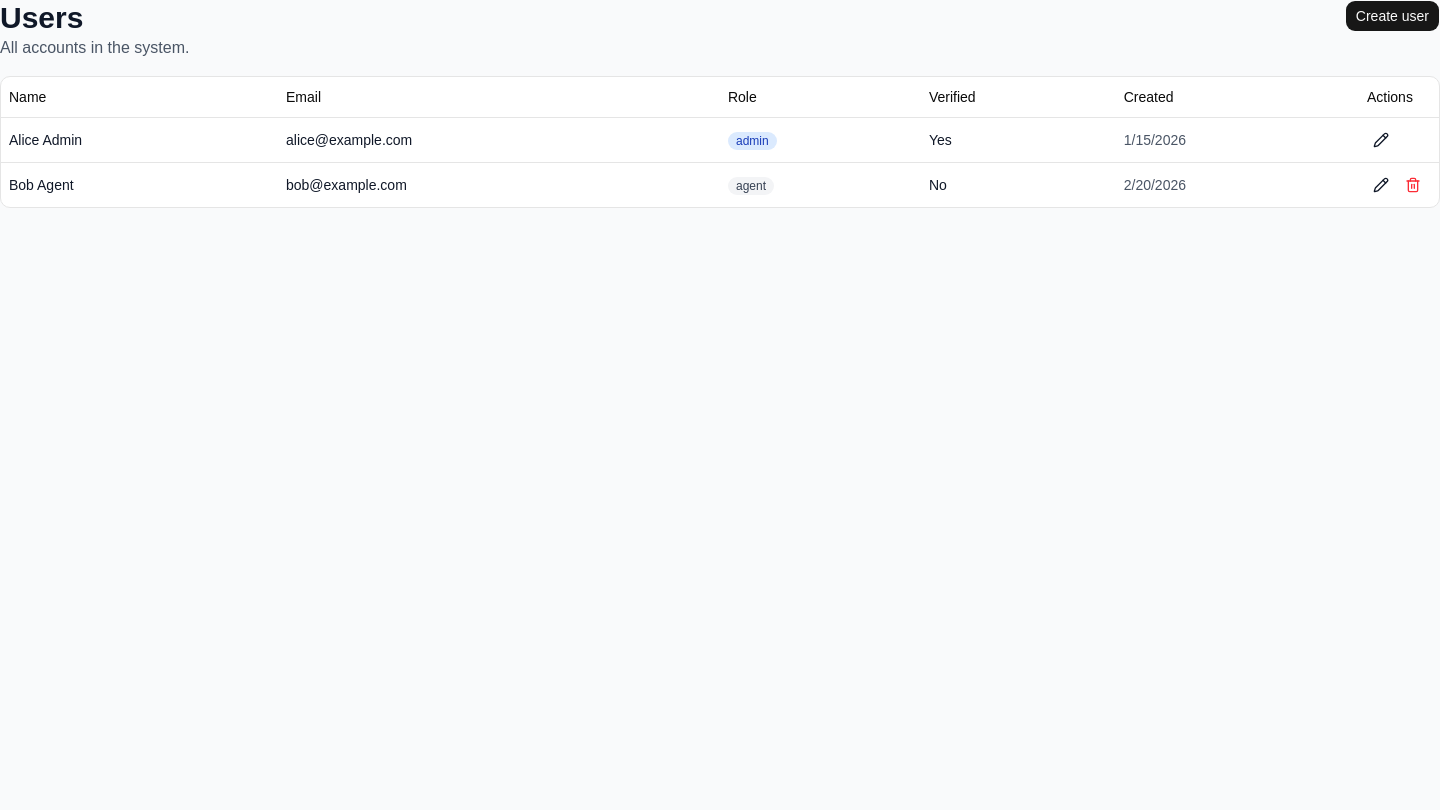
Scenario: Delete user › clicking delete opens the confirmation dialog with the user's name
What coordinates should you click on to do the following:
click the button named "delete bob agent"
I would click on:
 (1413, 184)
Its box is [1399,170,1427,198].
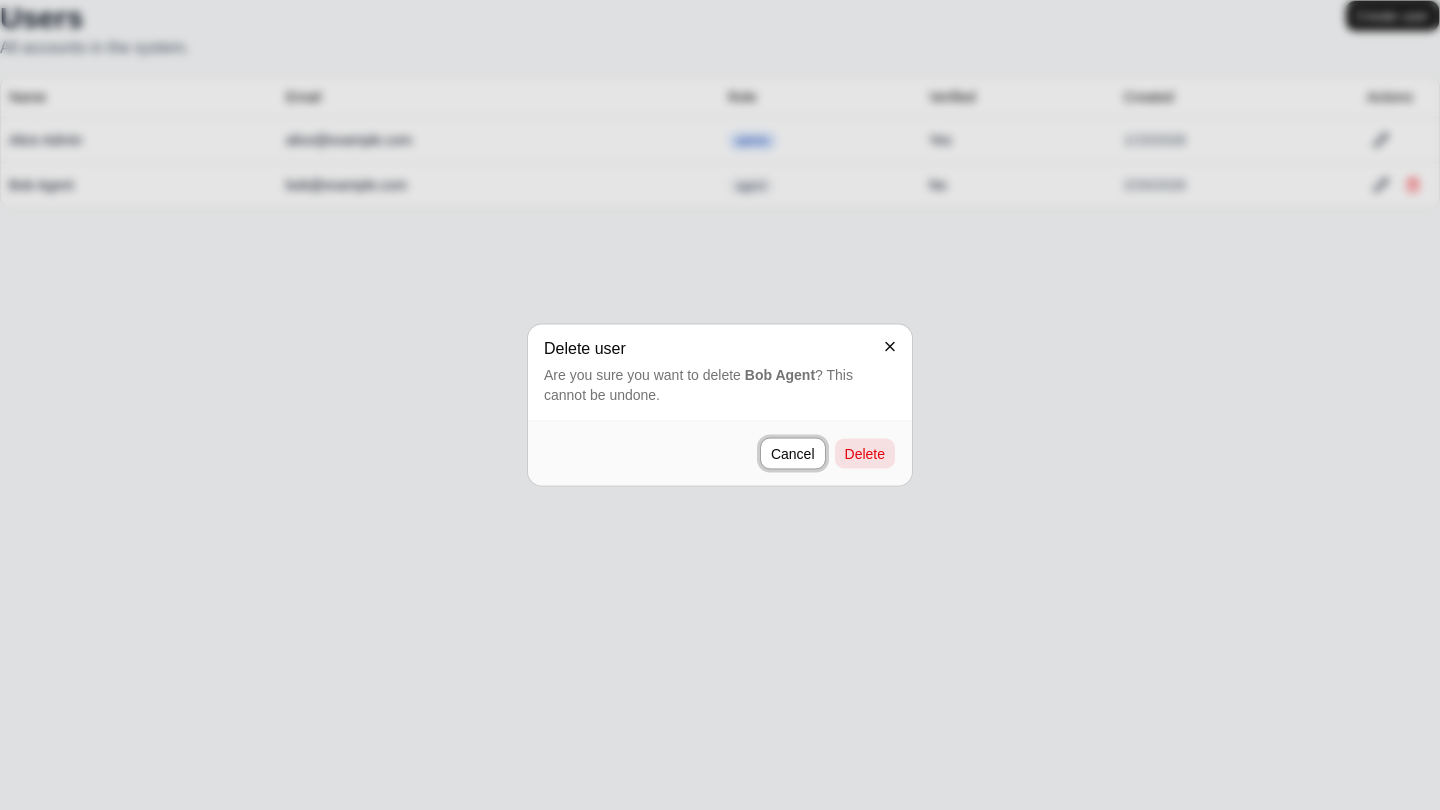
Expected: the heading "Delete user" is shown, [544,340,626,356]
Expected: the text "Bob Agent" is shown, [745,366,815,382]
